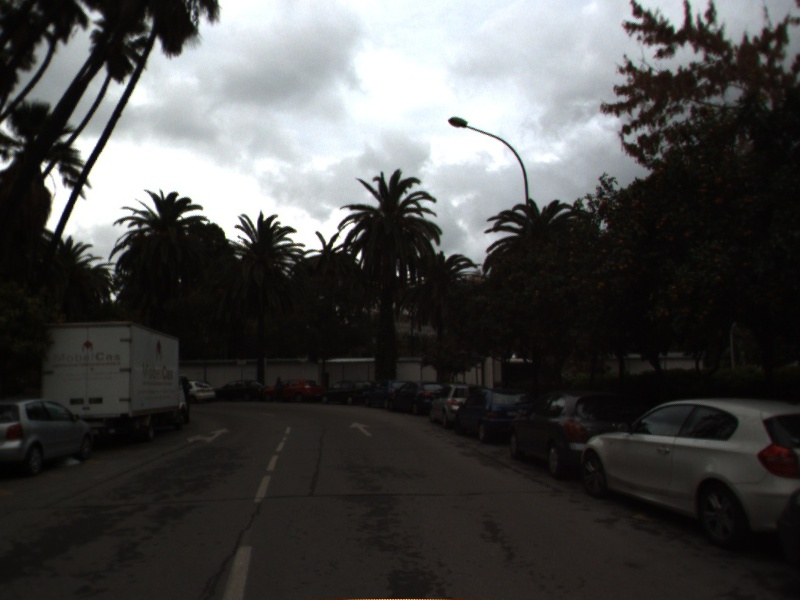STRAIGHT: (347, 419, 376, 438)
STRAIGHT_LEFT: (184, 425, 233, 447)
